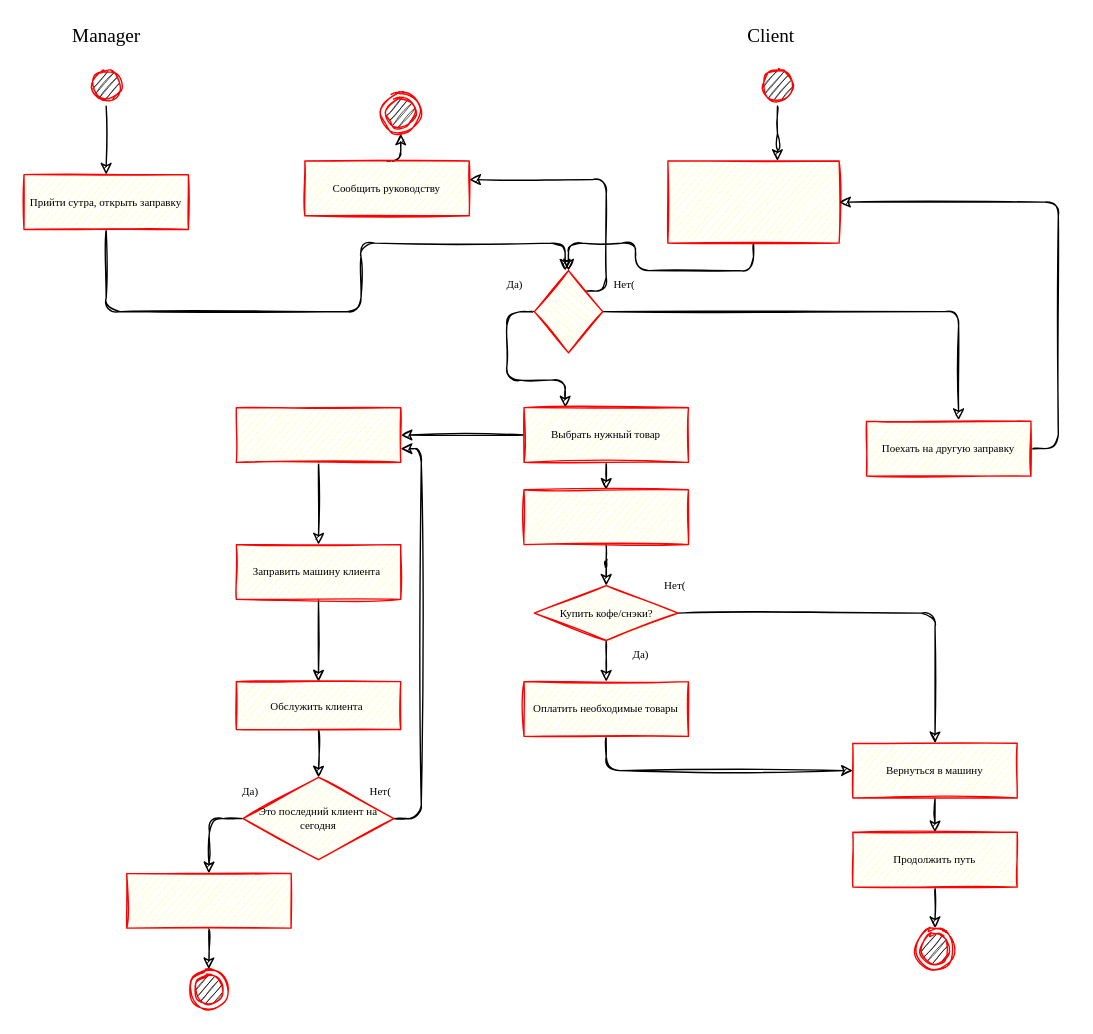
This 1093x1034 diagram has some shape labels left out. Here are the shapes that lost their labels. From the top down, the centre of each, then its label:
pixel 753 201: Подъехать к заправке, встать в очередь на заправку
pixel 568 311: Есть ли бензин ?
pixel 318 434: Проконсультировать клиента по топливу, договориться по количеству
pixel 605 516: Оплатить заказ на кассе заправки
pixel 208 900: Закрыть заправку
